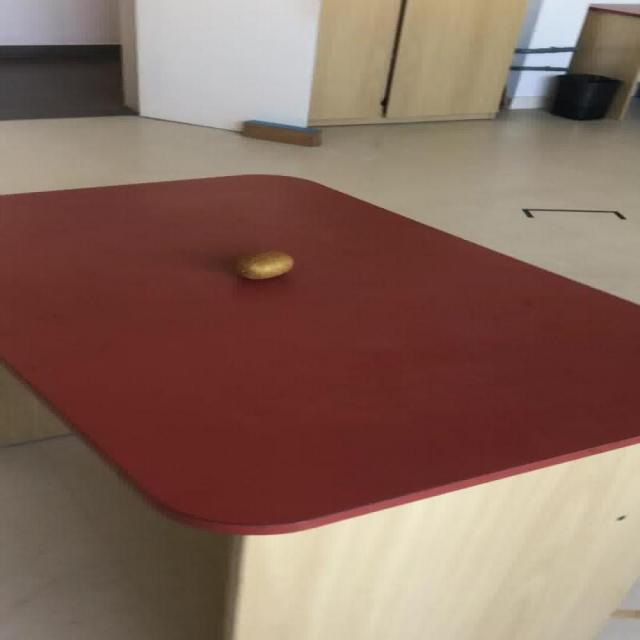Kiwi: (236, 250, 293, 280)
